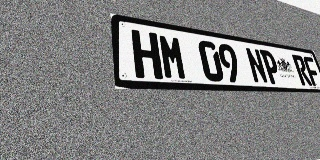0: (197, 40, 225, 82)
9: (216, 43, 243, 83)
F: (302, 56, 320, 86)
H: (131, 29, 163, 79)
M: (158, 34, 188, 80)
N: (244, 47, 269, 84)
P: (259, 49, 283, 84)
R: (291, 54, 313, 86)
